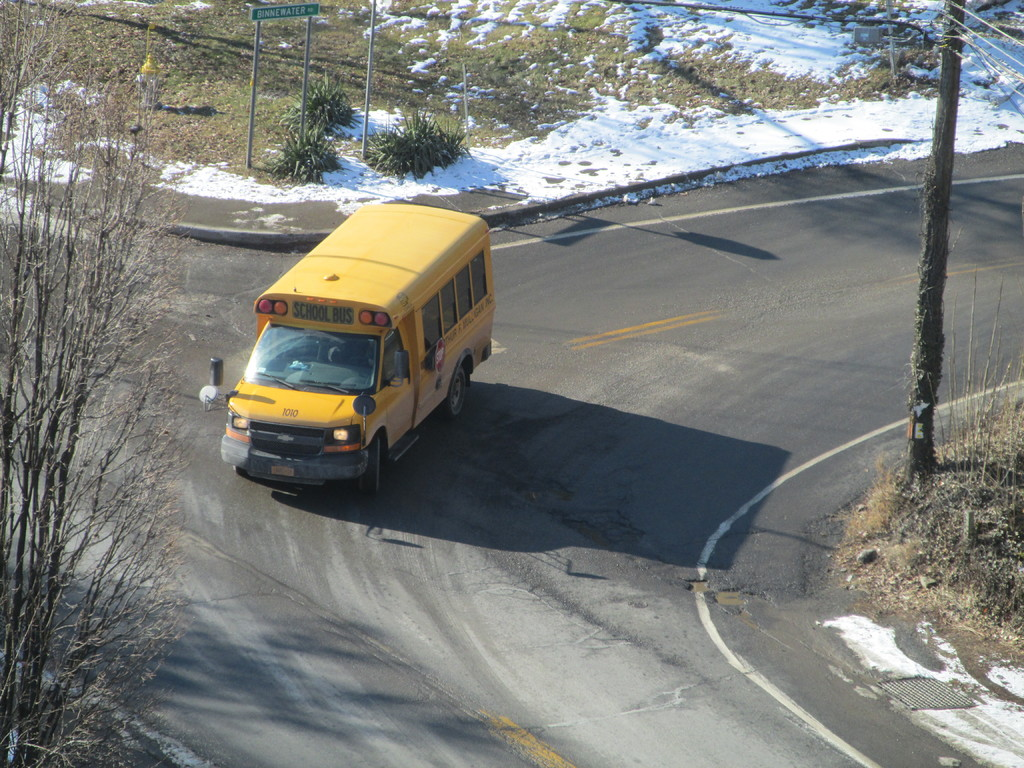Bus: (199, 199, 503, 494)
